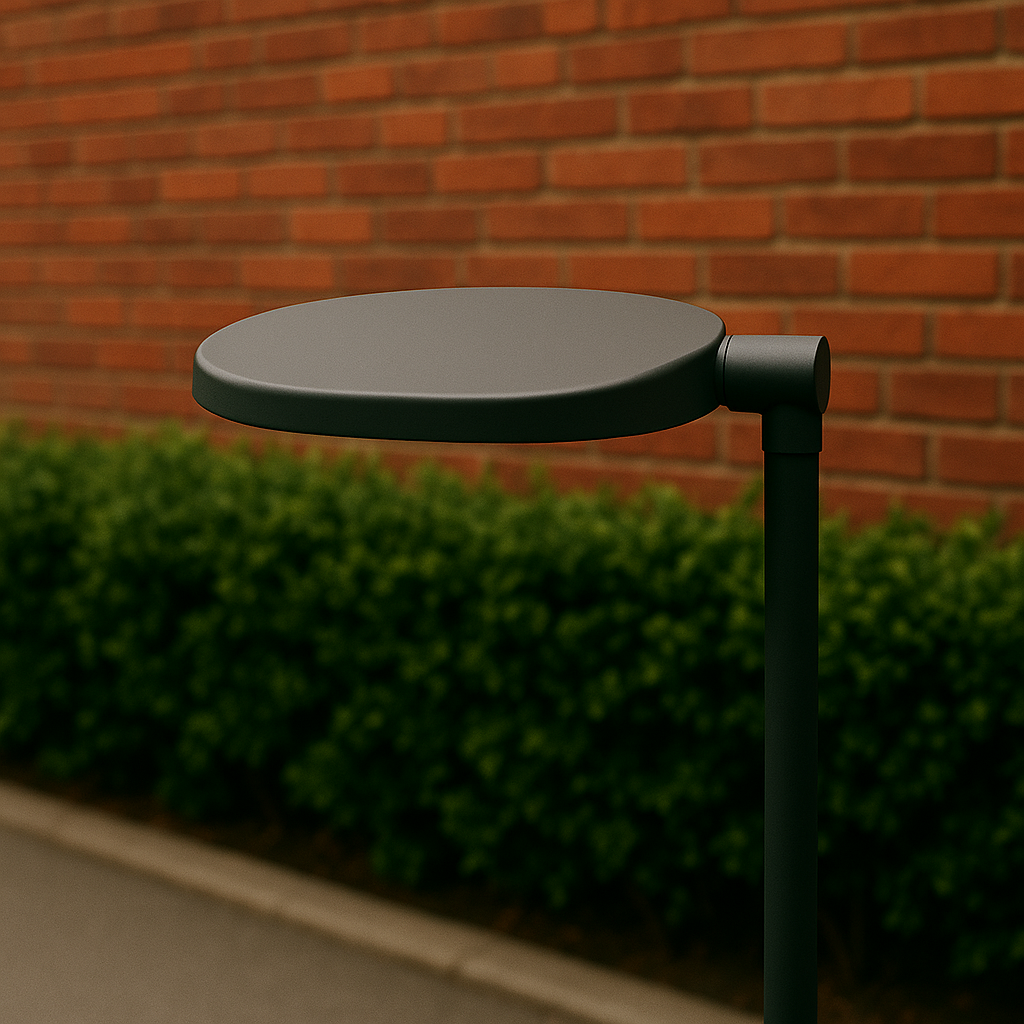Top_Street_Light: (167, 285, 751, 432)
